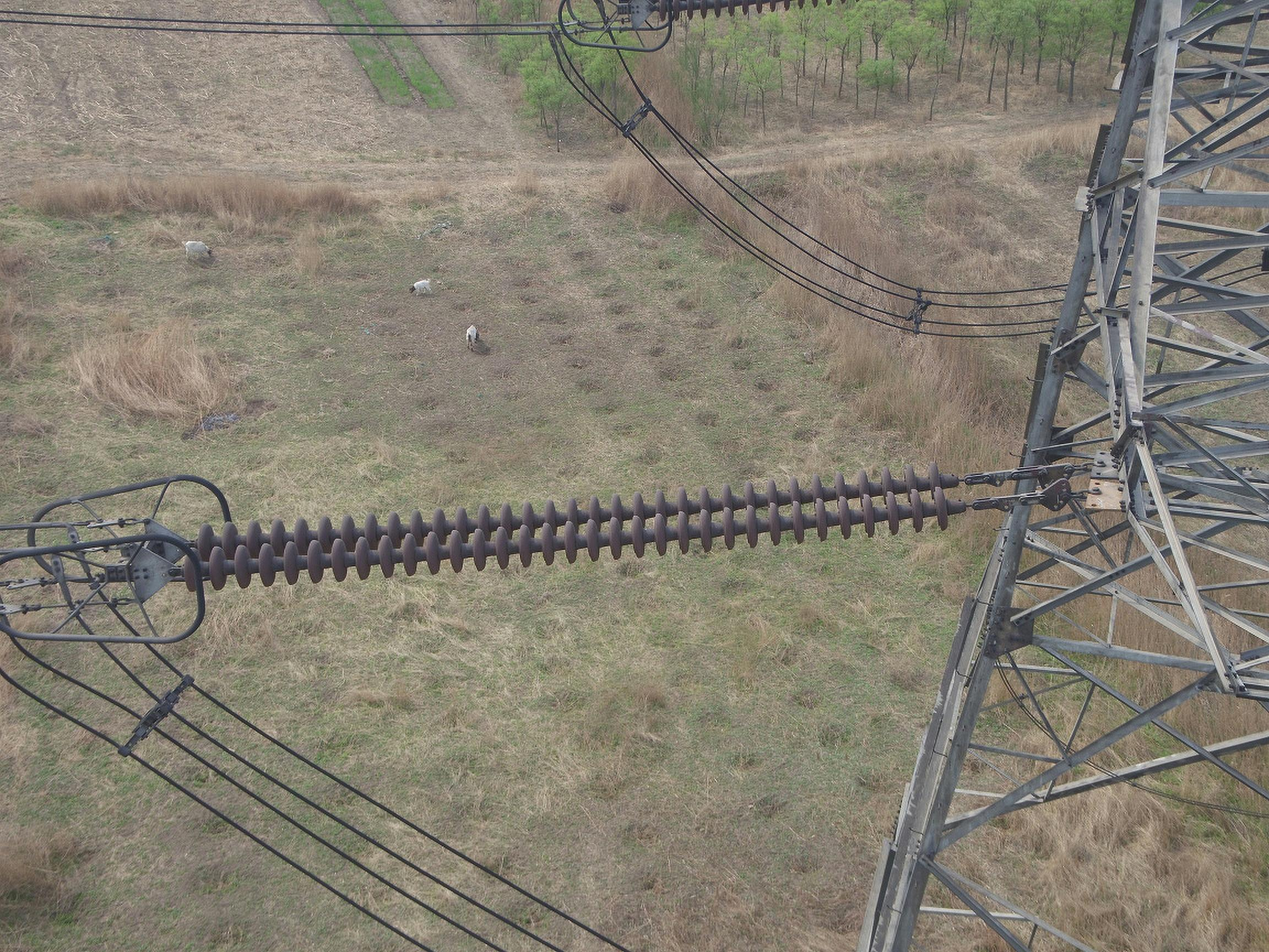insulator: (178, 455, 953, 598)
